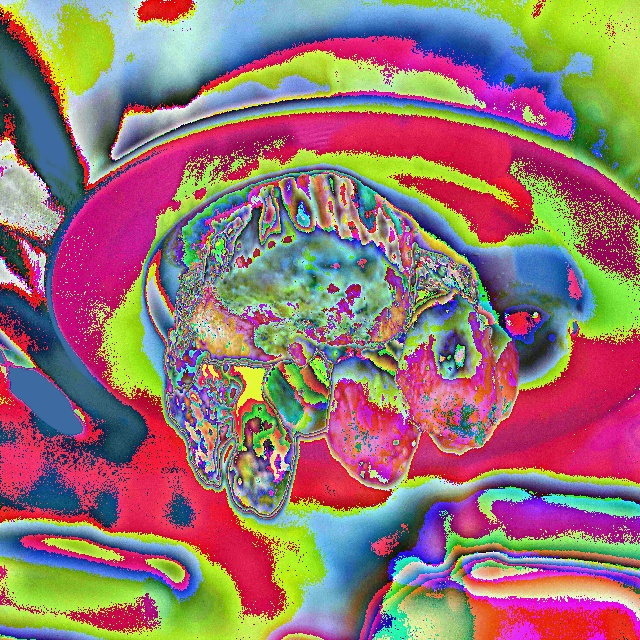background: (167, 174, 517, 517)
